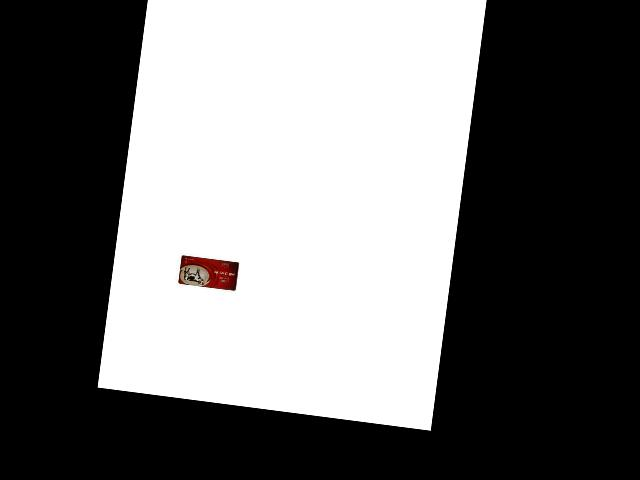chocolate: (178, 253, 240, 291)
